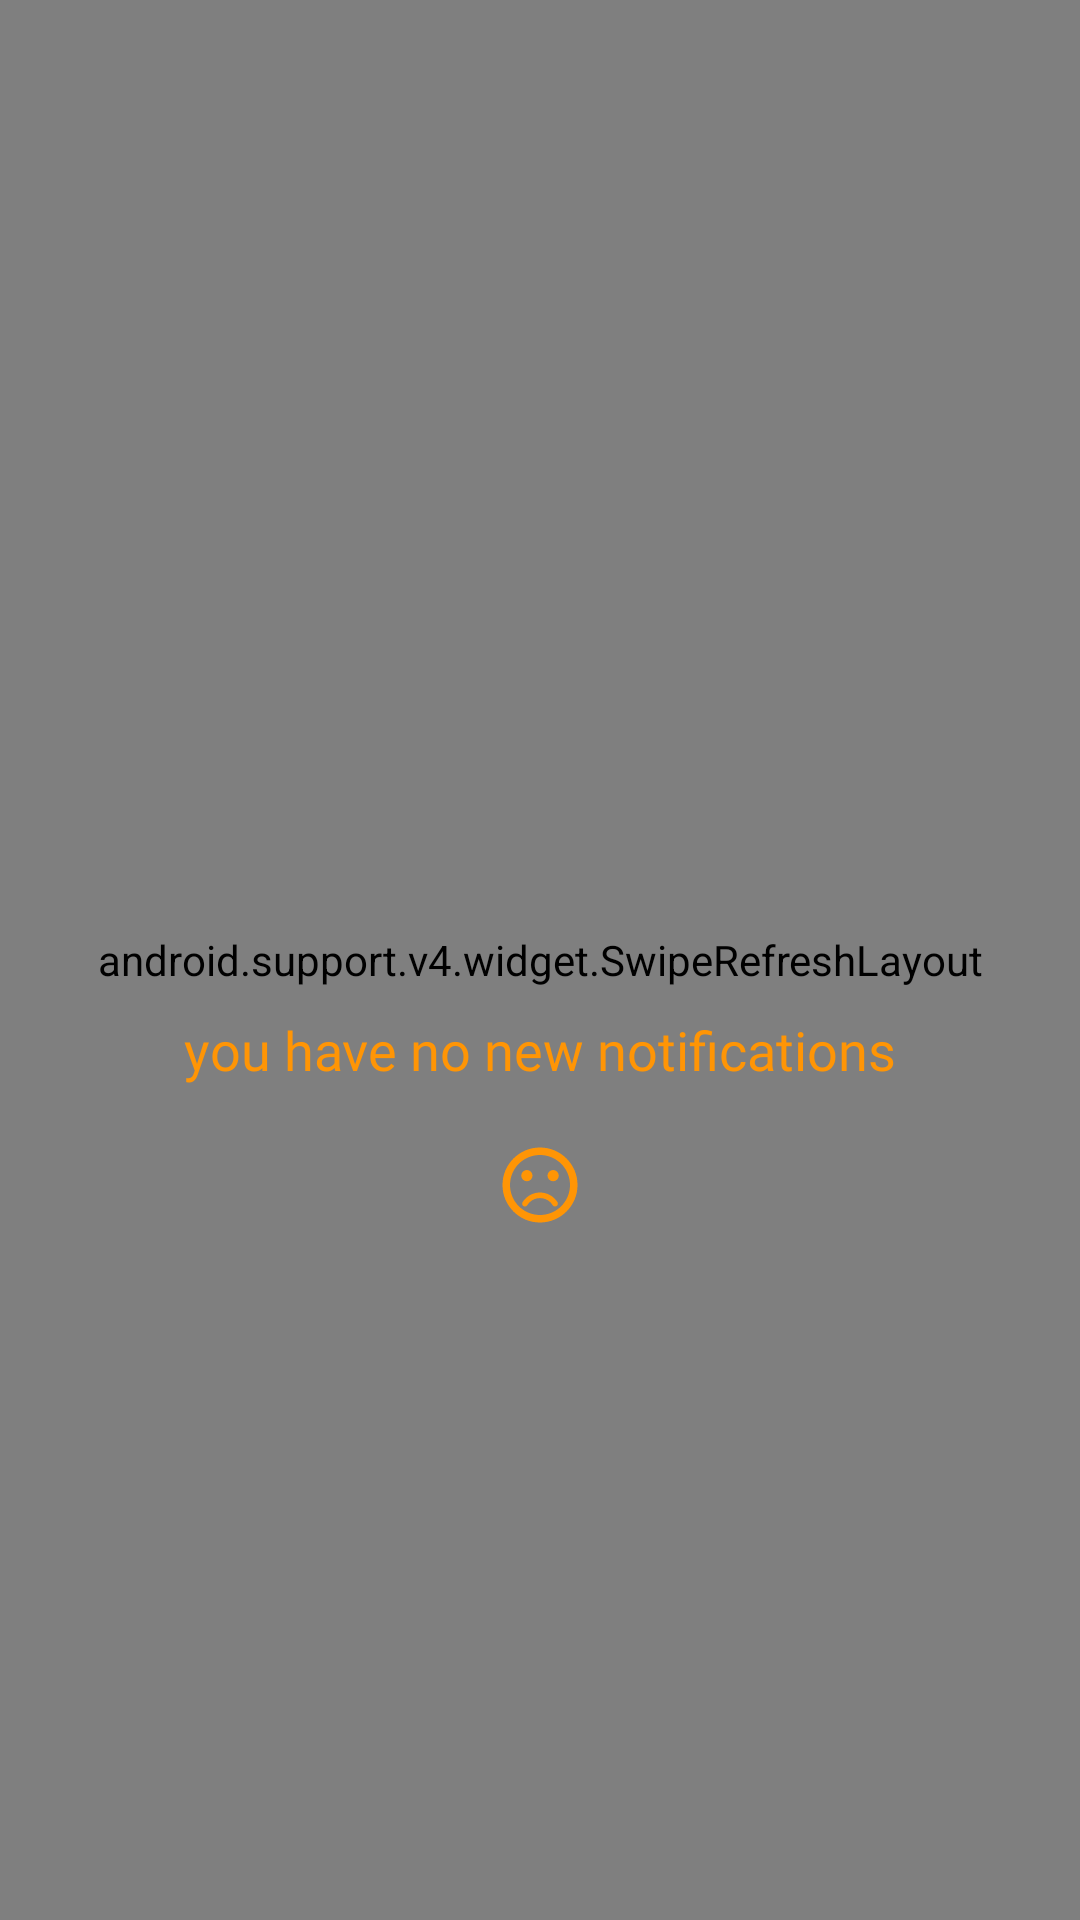

Locate icon controls on the screen. Image size 1080x1920, boxes as (x1, y1, x2, y2).
sentiment dissatisfied: (502, 1147, 578, 1223)
